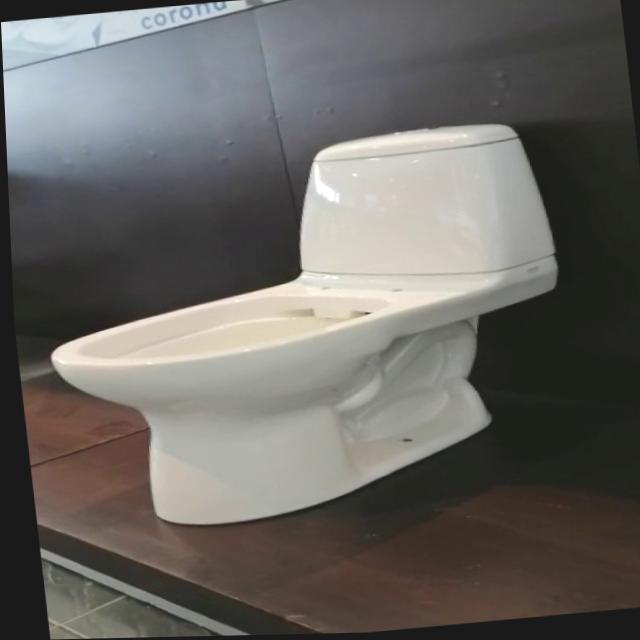toilet: (23, 116, 580, 539)
